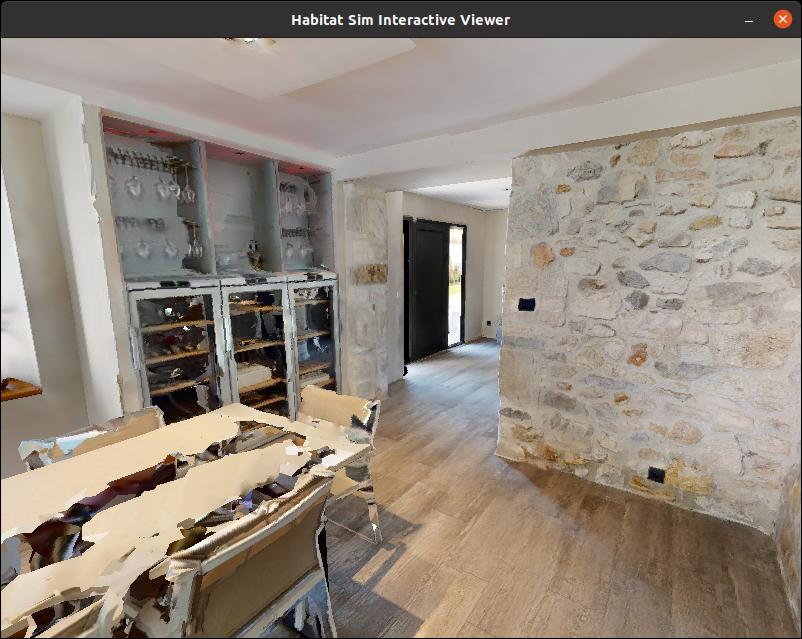chair: (257, 377, 410, 547)
door-frame: (352, 155, 539, 440)
table: (0, 385, 423, 624)
